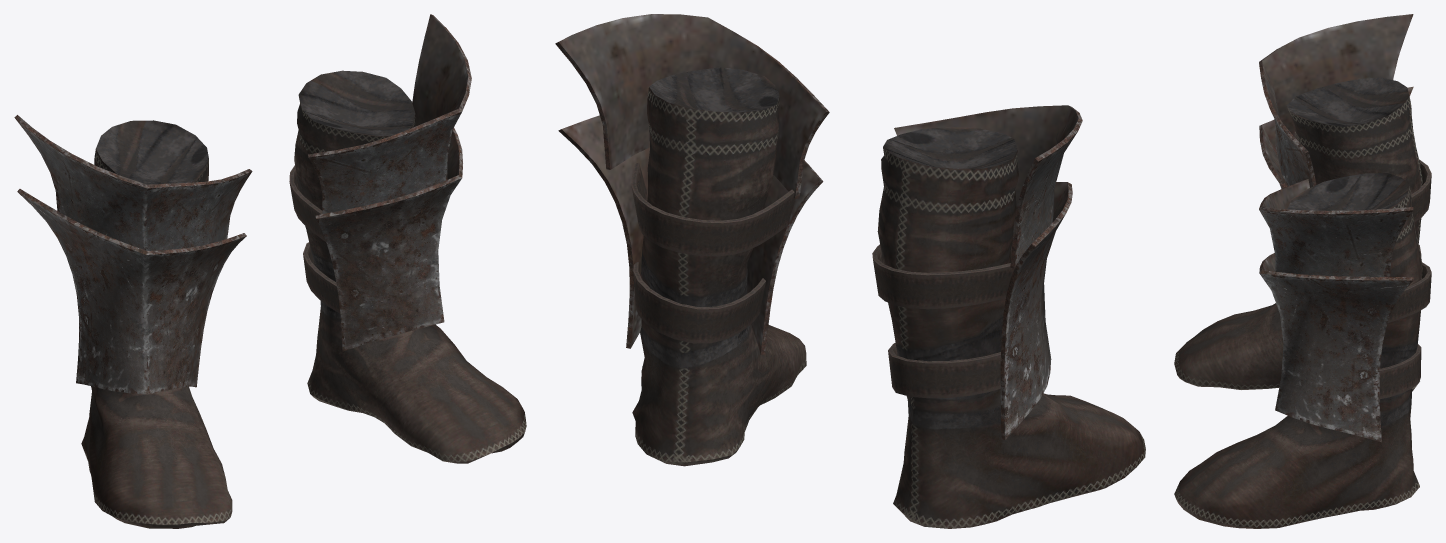
File: sk_gb_uruk_boots_heavy_a.fbx
3 renders of one model, left to right at view 1: azimuth 30°, elevation 25°; view 2: azimuth 150°, elevation 25°; view 3: azimuth 270°, elevation 25°, orthographic. The views are drawn at different scales.
Parts seen in each view (by area): view 1: sk_gb_uruk_boots_heavy_a.0, sk_gb_uruk_boots_heavy_a.1; view 2: sk_gb_uruk_boots_heavy_a.0, sk_gb_uruk_boots_heavy_a.1; view 3: sk_gb_uruk_boots_heavy_a.0, sk_gb_uruk_boots_heavy_a.1.
Boxes of the visible parts, x1,y1,x2,y2 form: sk_gb_uruk_boots_heavy_a.0: [14, 14, 526, 528]; sk_gb_uruk_boots_heavy_a.1: [218, 165, 340, 313]; sk_gb_uruk_boots_heavy_a.0: [555, 14, 1145, 528]; sk_gb_uruk_boots_heavy_a.1: [631, 162, 1014, 398]; sk_gb_uruk_boots_heavy_a.0: [1174, 14, 1422, 528]; sk_gb_uruk_boots_heavy_a.1: [1379, 159, 1431, 399].
Bounding box in the file's own units: 0.575 × 0.3199 × 0.4514.
2 materials, 2 textured.
